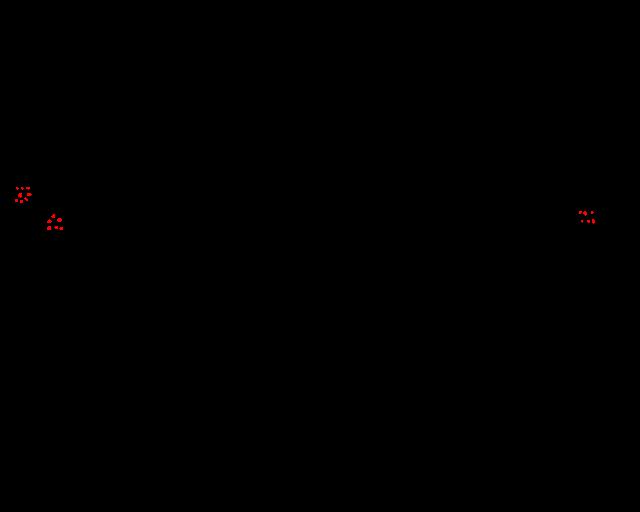Target: (18, 193, 22, 198), (583, 211, 587, 216), (57, 218, 62, 222), (47, 219, 52, 223), (24, 197, 28, 201), (51, 214, 55, 218), (47, 226, 51, 230), (27, 193, 32, 196), (592, 219, 595, 224), (26, 187, 30, 190), (54, 226, 58, 229), (59, 227, 63, 230), (16, 187, 19, 190), (21, 187, 24, 190), (15, 199, 18, 202), (20, 200, 23, 203), (579, 211, 582, 214), (591, 211, 594, 214), (587, 220, 590, 223), (581, 220, 583, 223)
